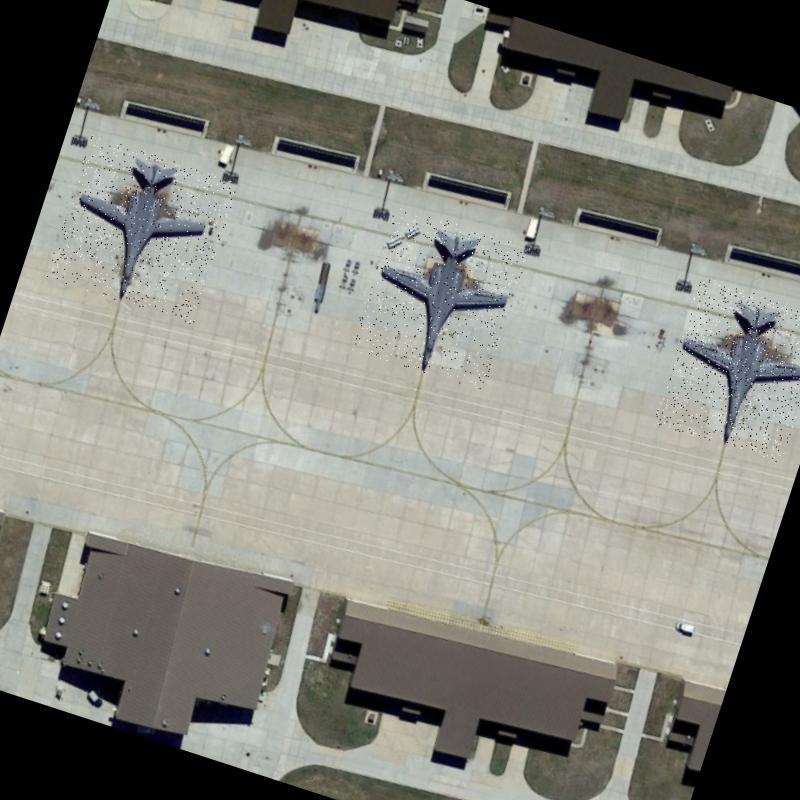A10: (46, 134, 240, 326), (349, 205, 530, 394), (653, 276, 800, 465)
